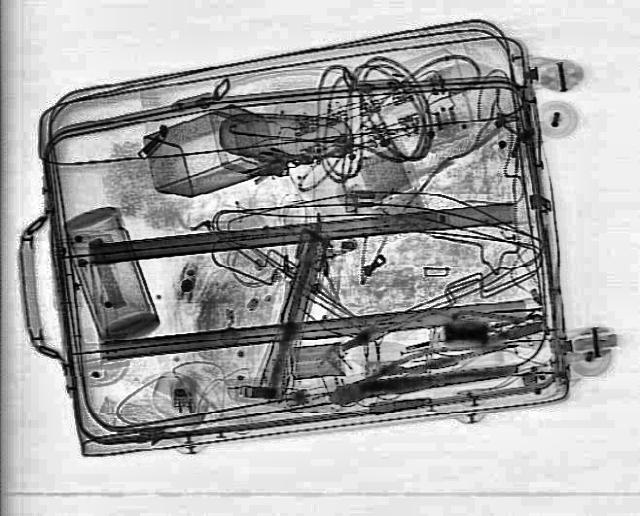Pliers: (396, 312, 550, 376)
